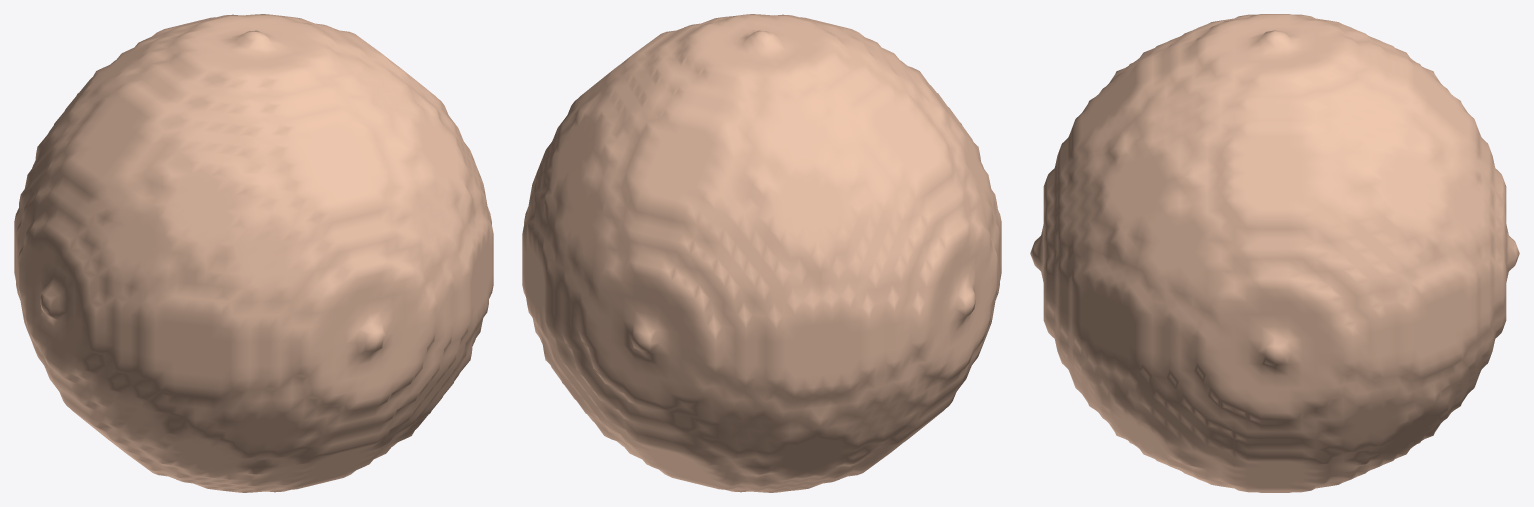
3 views of the same model, side by side, from view 1: azimuth 30°, elevation 25°; view 2: azimuth 150°, elevation 25°; view 3: azimuth 270°, elevation 25° (orthographic).
Parts seen in each view (by area): view 1: sphere; view 2: sphere; view 3: sphere.
Part boxes in pixels (<box>): sphere: <box>14,14,493,492</box>; sphere: <box>522,14,1001,492</box>; sphere: <box>1030,14,1519,492</box>.
Size of the model in its own units: 0.225 by 0.225 by 0.225.
